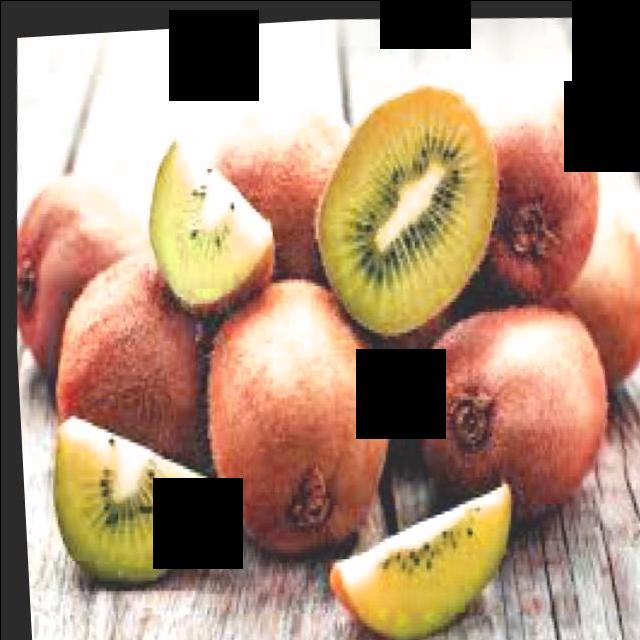kiwi: (195, 260, 397, 557), (403, 298, 615, 529), (47, 229, 223, 477), (195, 78, 377, 290), (10, 159, 172, 385), (444, 74, 608, 297), (468, 203, 640, 390)
